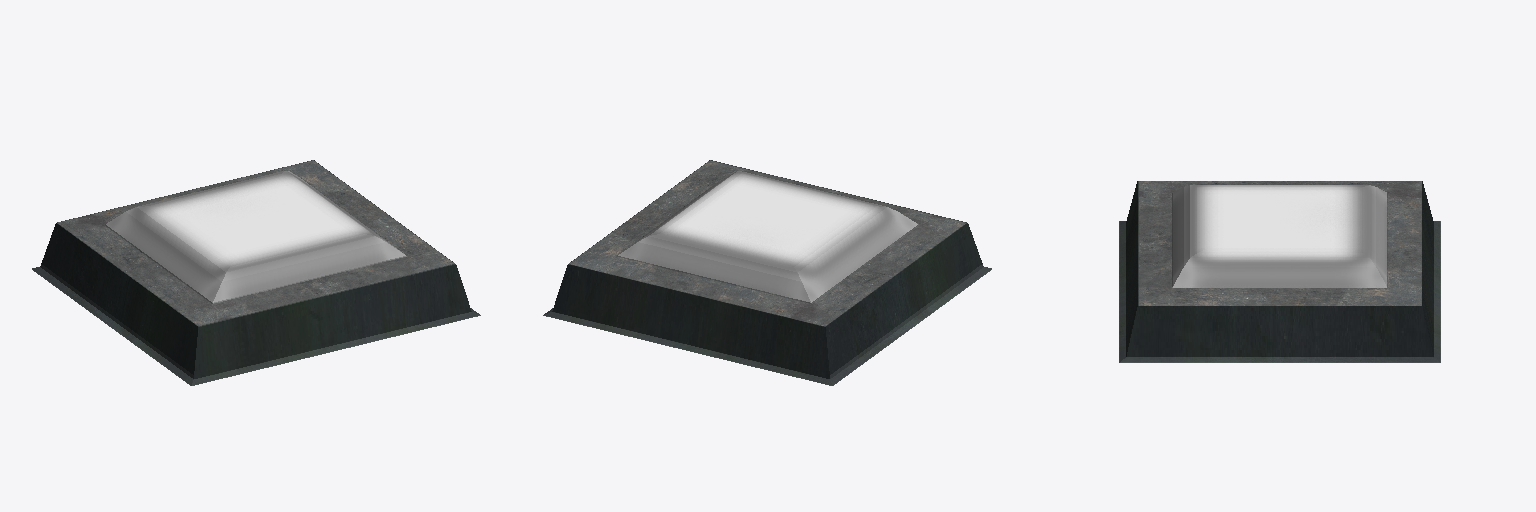
The picture shows the model from 3 angles: view 1: azimuth 30°, elevation 25°; view 2: azimuth 150°, elevation 25°; view 3: azimuth 270°, elevation 25°; orthographic projection.
Visible parts, largest first — view 1: roofWindow_1; view 2: roofWindow_1; view 3: roofWindow_1.
Part boxes in pixels (bbox=[...]): roofWindow_1: bbox=[32, 160, 480, 385]; roofWindow_1: bbox=[543, 160, 991, 385]; roofWindow_1: bbox=[1119, 181, 1440, 362].
Size of the model in its own units: 1.15 by 0.2731 by 1.1.
Materials: 1 (1 with a texture image).